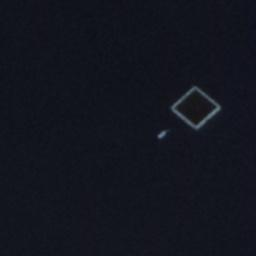square_solid: (165, 82, 225, 134)
